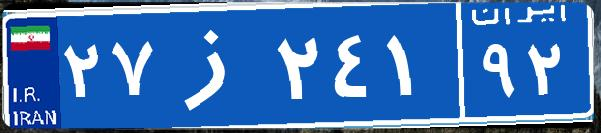1: (385, 28, 445, 110)
2: (273, 28, 330, 110), (57, 26, 110, 107), (525, 38, 570, 115)
4: (330, 28, 385, 110)
7: (110, 28, 158, 105)
9: (475, 38, 525, 113)
ز: (158, 15, 273, 115)
